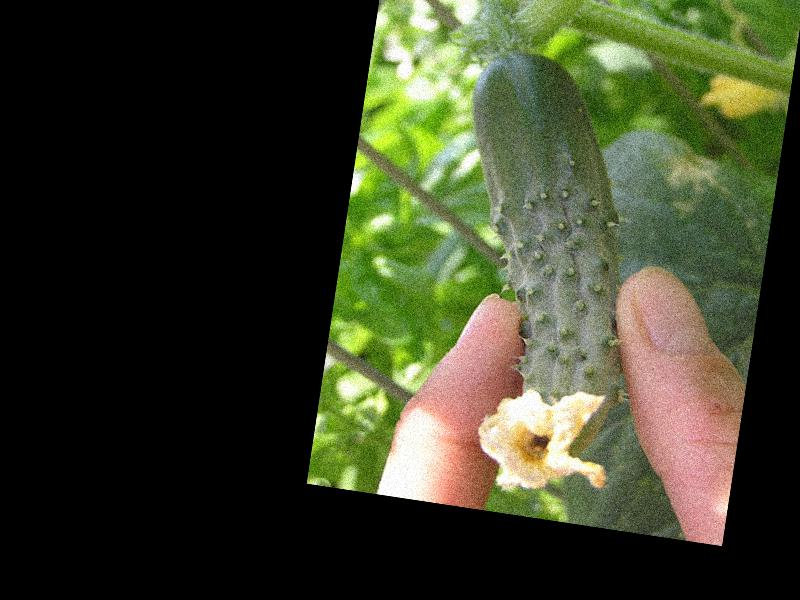Cucumber: (418, 44, 667, 500)
